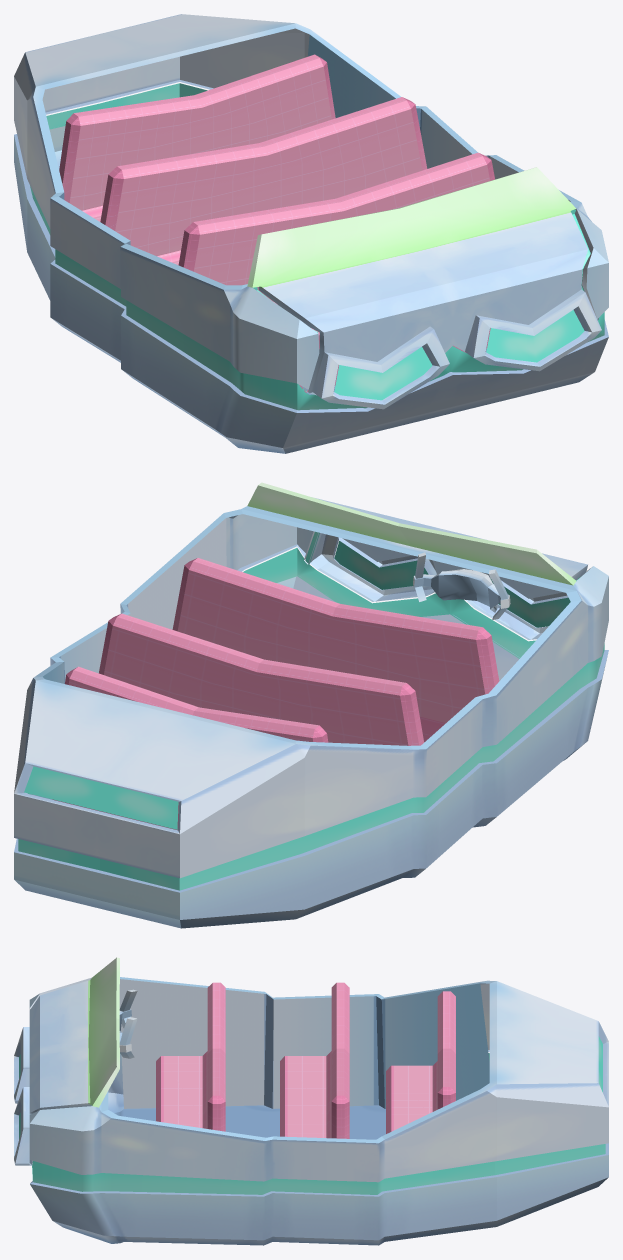
Rendered from car_v1.fbx.
3 renders of one model, top to bottom at view 1: azimuth 30°, elevation 25°; view 2: azimuth 150°, elevation 25°; view 3: azimuth 270°, elevation 25°, orthographic. The views are drawn at different scales.
Visible parts, largest first — view 1: polySurface5, isu4, isu5, isu3, LINE, R_hart, R_hart1; view 2: polySurface5, isu3, isu4, LINE, backlight, isu5, hundle1, R_hart1, R_hart; view 3: polySurface5, LINE, isu4, isu3, isu5, hundle1.
Boxes of the visible parts, x1=… form: polySurface5: x1=14, y1=14, x2=608, y2=453; isu4: x1=100, y1=97, x2=427, y2=265; isu5: x1=59, y1=54, x2=335, y2=221; isu3: x1=178, y1=152, x2=494, y2=392; LINE: x1=30, y1=83, x2=604, y2=410; R_hart: x1=334, y1=347, x2=432, y2=400; R_hart1: x1=486, y1=310, x2=584, y2=362; polySurface5: x1=14, y1=482, x2=608, y2=928; isu3: x1=172, y1=558, x2=499, y2=742; isu4: x1=99, y1=613, x2=423, y2=745; LINE: x1=18, y1=548, x2=604, y2=890; backlight: x1=24, y1=766, x2=178, y2=829; isu5: x1=52, y1=666, x2=328, y2=830; hundle1: x1=413, y1=552, x2=510, y2=619; R_hart1: x1=334, y1=541, x2=428, y2=589; R_hart: x1=490, y1=578, x2=570, y2=627; polySurface5: x1=14, y1=957, x2=608, y2=1245; LINE: x1=32, y1=1053, x2=605, y2=1194; isu4: x1=280, y1=982, x2=349, y2=1138; isu3: x1=156, y1=982, x2=225, y2=1131; isu5: x1=386, y1=991, x2=455, y2=1133; hundle1: x1=119, y1=989, x2=137, y2=1058.
Size of the model in its own units: 449 by 234 by 757.
